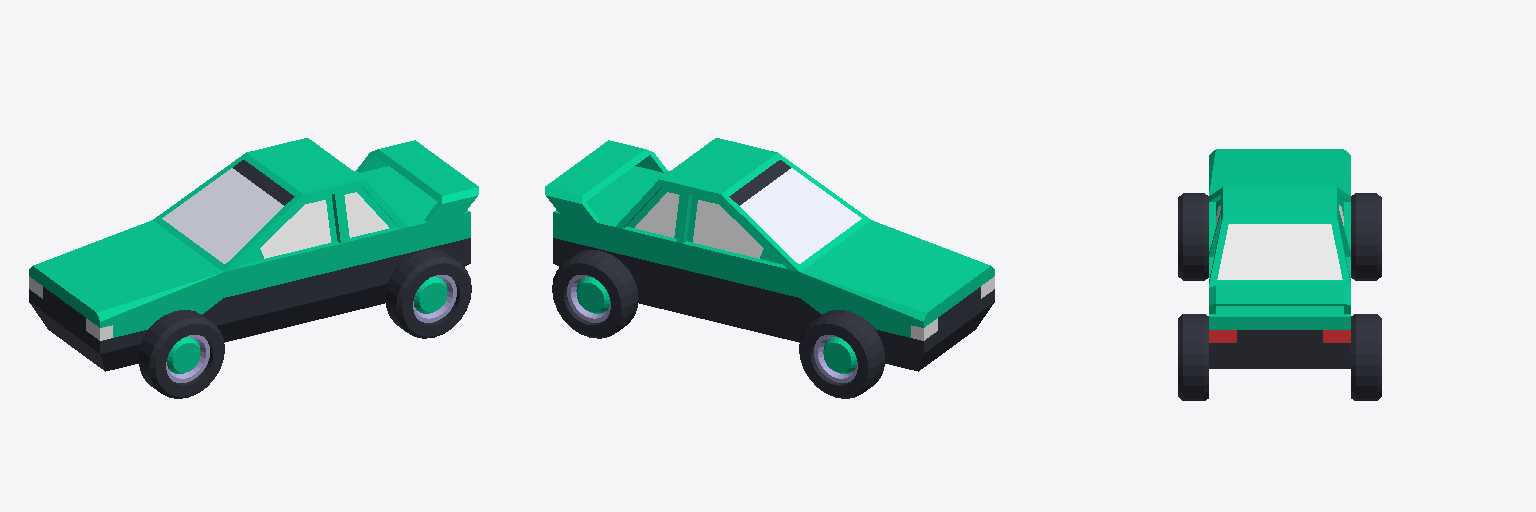
File: Car.obj
3 views of the same model, side by side, from view 1: azimuth 30°, elevation 25°; view 2: azimuth 150°, elevation 25°; view 3: azimuth 270°, elevation 25° (orthographic).
Parts seen in each view (by area): view 1: mergedBlocks; view 2: mergedBlocks; view 3: mergedBlocks.
Boxes of the visible parts, x1=… form: mergedBlocks: x1=29, y1=138, x2=478, y2=398; mergedBlocks: x1=545, y1=138, x2=994, y2=398; mergedBlocks: x1=1178, y1=149, x2=1381, y2=400.
Size of the model in its own units: 3.1 by 1.21 by 1.43.